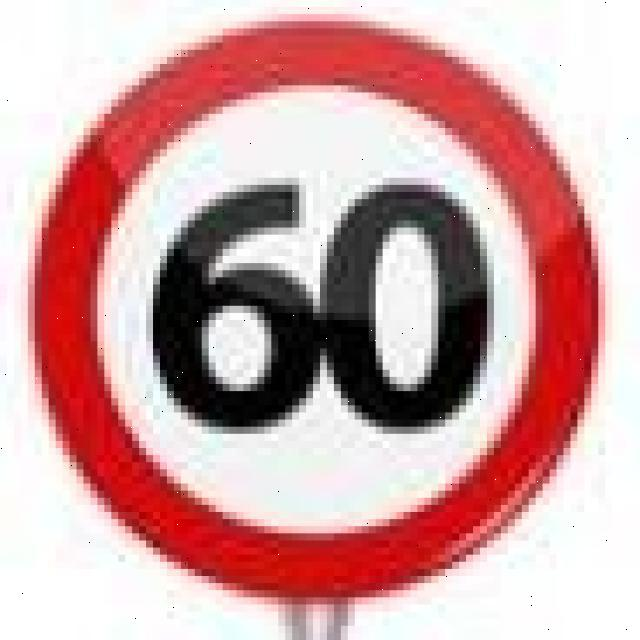speed limit 60: (34, 20, 603, 596)
